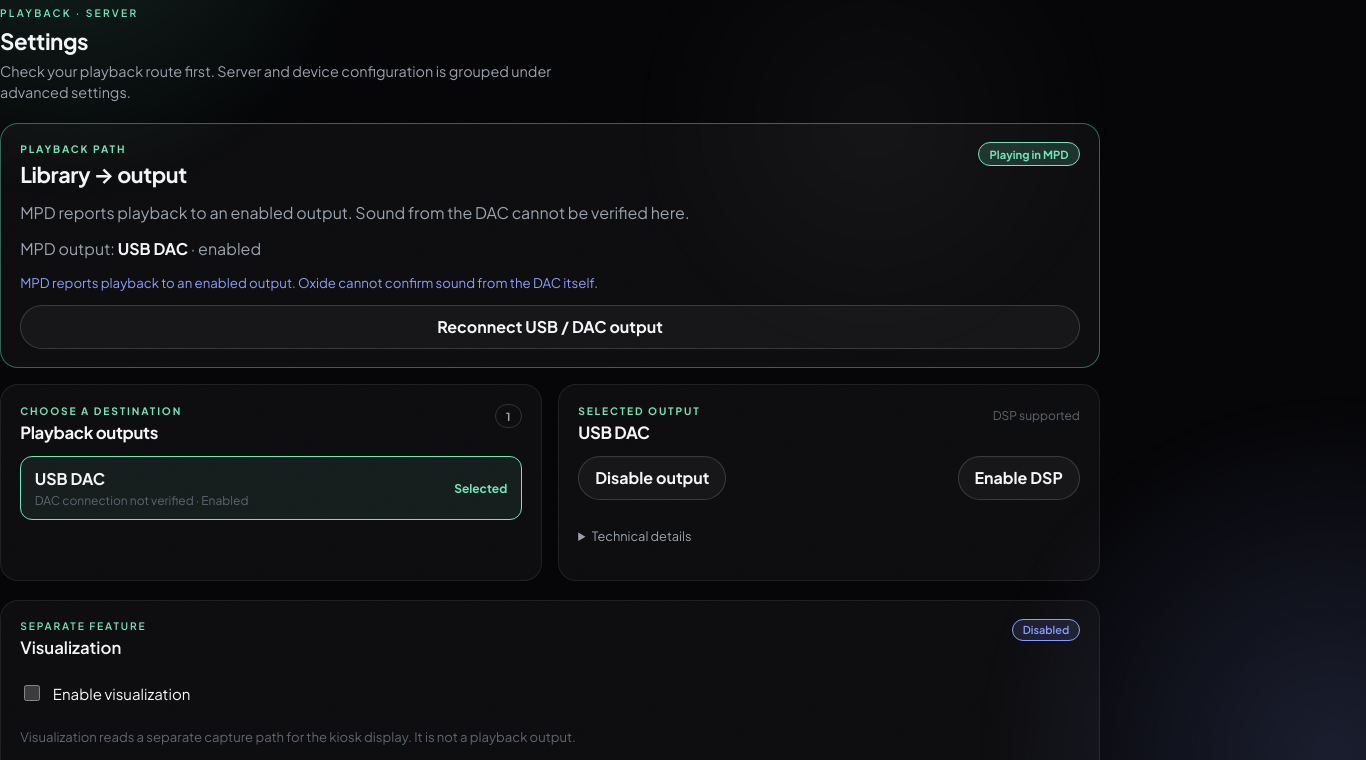
it: ConfigView version › reconnects an enabled USB output by toggling its MPD output
Click the button "Reconnect USB / DAC output". click: (550, 327)
box: [20,305,1080,349]
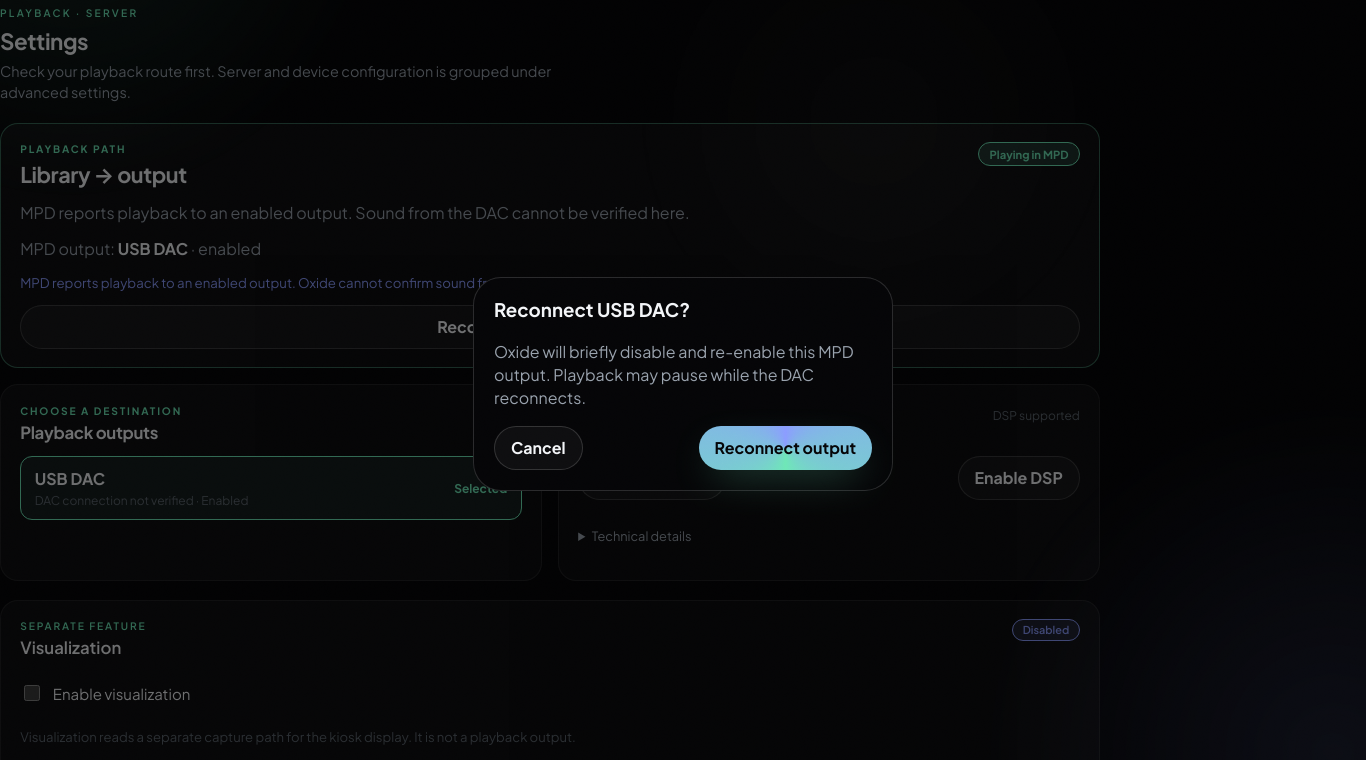
Click the button "Reconnect output". click: (785, 448)
box: [699,426,872,470]
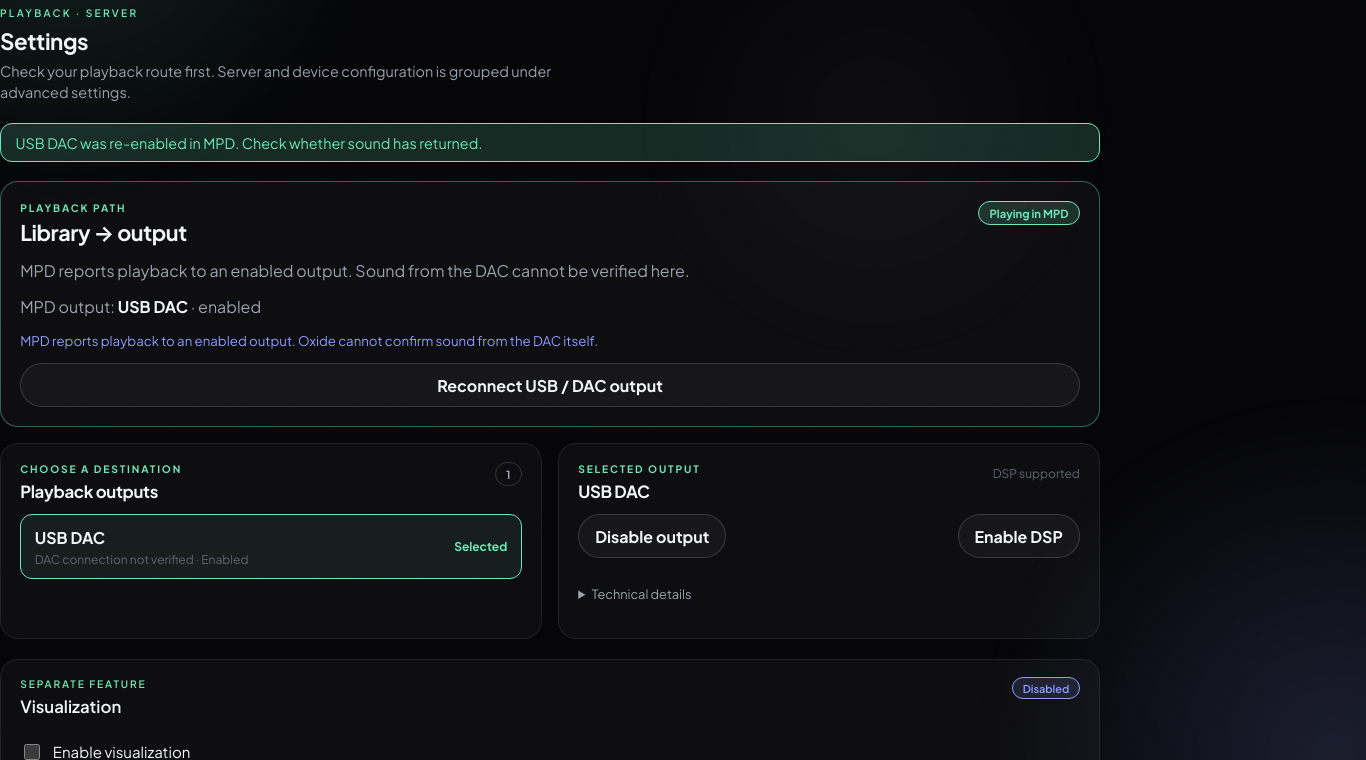
Check: the text "Check whether sound has returned" is shown, box [15,134,482,152]
